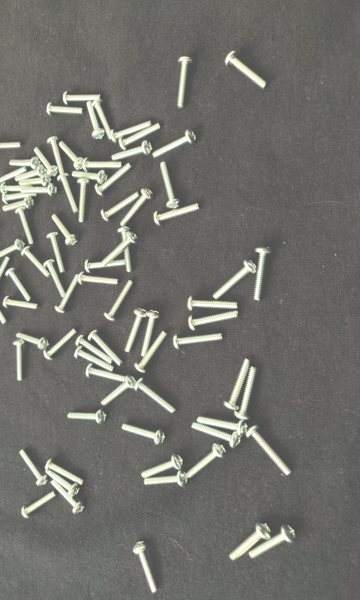longscrew: (246, 424, 293, 478), (248, 523, 297, 561), (229, 522, 274, 563), (212, 259, 257, 300), (224, 49, 269, 90), (134, 377, 177, 415), (223, 358, 252, 412), (186, 443, 228, 480), (133, 541, 160, 594), (191, 422, 242, 450), (87, 329, 124, 367), (234, 367, 260, 421), (120, 188, 155, 228), (94, 163, 134, 198), (152, 129, 198, 159), (135, 331, 167, 374), (101, 231, 139, 267), (104, 280, 135, 324), (100, 191, 141, 224), (50, 479, 86, 516), (118, 122, 161, 152), (100, 374, 138, 407), (75, 334, 114, 366), (196, 415, 249, 438), (252, 246, 274, 301), (74, 345, 116, 373), (154, 203, 201, 228), (187, 310, 240, 332), (45, 458, 85, 487), (43, 328, 78, 361), (140, 454, 184, 480), (19, 449, 49, 487), (160, 161, 183, 210), (54, 274, 81, 315), (111, 119, 153, 145), (45, 469, 81, 499), (124, 308, 148, 353), (173, 330, 224, 351), (121, 423, 167, 446), (140, 309, 162, 357), (21, 491, 57, 520), (21, 246, 52, 279), (4, 267, 33, 302), (43, 259, 68, 299), (91, 98, 114, 141), (187, 294, 241, 312), (177, 56, 195, 110), (51, 214, 79, 248), (57, 173, 80, 214), (111, 140, 153, 162), (46, 231, 67, 274), (117, 226, 136, 273), (15, 206, 36, 246), (144, 469, 188, 488), (85, 364, 129, 383), (59, 140, 85, 171), (46, 136, 66, 176), (33, 146, 58, 178), (87, 101, 106, 140), (67, 408, 107, 425), (85, 258, 126, 274), (83, 157, 124, 173), (16, 332, 50, 351), (78, 271, 121, 286), (77, 178, 91, 224), (14, 164, 47, 183), (63, 90, 102, 106), (0, 166, 28, 188), (0, 238, 26, 261), (2, 296, 41, 311), (46, 102, 85, 117), (71, 170, 109, 185), (13, 339, 26, 382), (20, 183, 57, 198), (2, 197, 35, 213), (1, 191, 38, 205), (8, 156, 41, 170), (0, 182, 35, 195), (0, 257, 12, 294), (18, 174, 52, 187), (0, 139, 24, 153), (0, 290, 9, 325)
